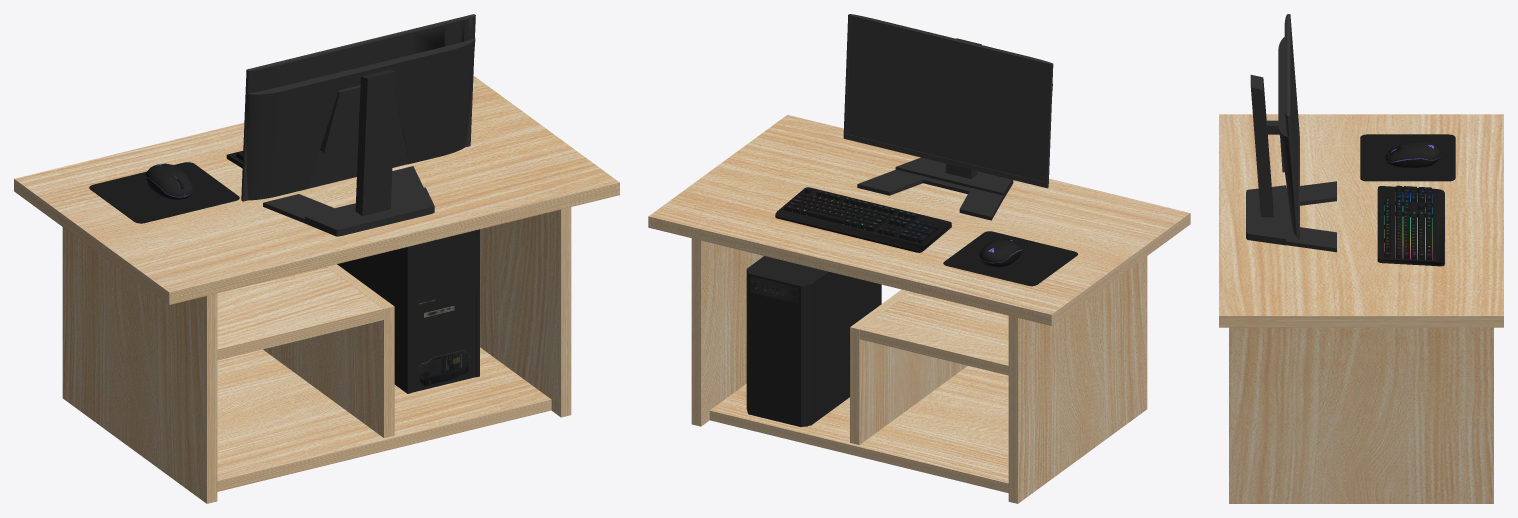
3 renders of one model, left to right at view 1: azimuth 30°, elevation 25°; view 2: azimuth 150°, elevation 25°; view 3: azimuth 270°, elevation 25°, orthographic. The views are drawn at different scales.
Visible parts, largest first — view 1: pc_ table.002, pc_screen.001, Object_40.001, Object_14.001, pc_screen 3.001, Object_36.001; view 2: pc_ table.002, pc_screen 3.001, Object_40.001, Object_14.001, pc_screen.001, Object_36.001; view 3: pc_ table.002, Object_14.001, pc_screen.001, pc_screen 3.001, Object_36.001.
Part boxes in pixels (left/top/right/bottom): pc_ table.002: left=14, top=75, right=619, bottom=503; pc_screen.001: left=246, top=15, right=475, bottom=236; Object_40.001: left=337, top=229, right=479, bottom=393; Object_14.001: left=89, top=151, right=243, bottom=223; pc_screen 3.001: left=241, top=14, right=475, bottom=201; Object_36.001: left=145, top=163, right=193, bottom=199; pc_ table.002: left=648, top=115, right=1190, bottom=503; pc_screen 3.001: left=843, top=14, right=1053, bottom=188; Object_40.001: left=746, top=256, right=881, bottom=426; Object_14.001: left=775, top=187, right=1077, bottom=286; pc_screen.001: left=850, top=14, right=1052, bottom=220; Object_36.001: left=979, top=239, right=1022, bottom=267; pc_ table.002: left=1219, top=114, right=1503, bottom=503; Object_14.001: left=1360, top=134, right=1455, bottom=266; pc_screen.001: left=1246, top=14, right=1336, bottom=252; pc_screen 3.001: left=1287, top=14, right=1299, bottom=239; Object_36.001: left=1385, top=141, right=1440, bottom=167.
Bounding box in the file's own units: 52.73 × 43.85 × 31.48.
6 materials, 4 textured.
